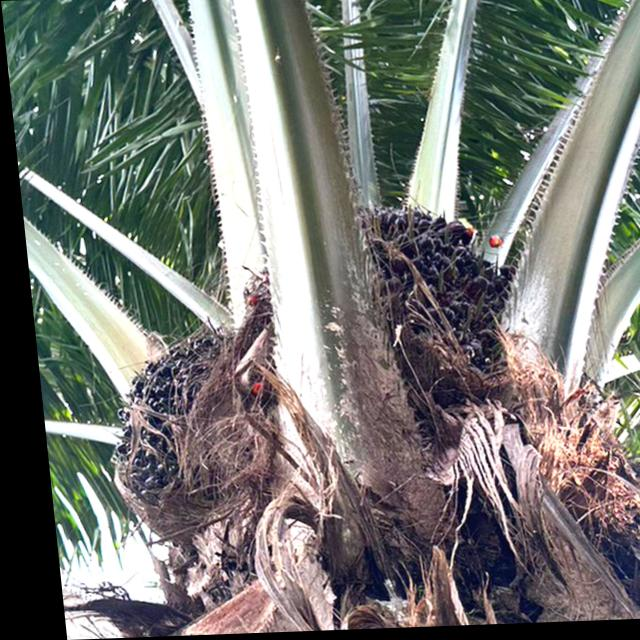ripe: (85, 281, 275, 509), (350, 202, 502, 397)
